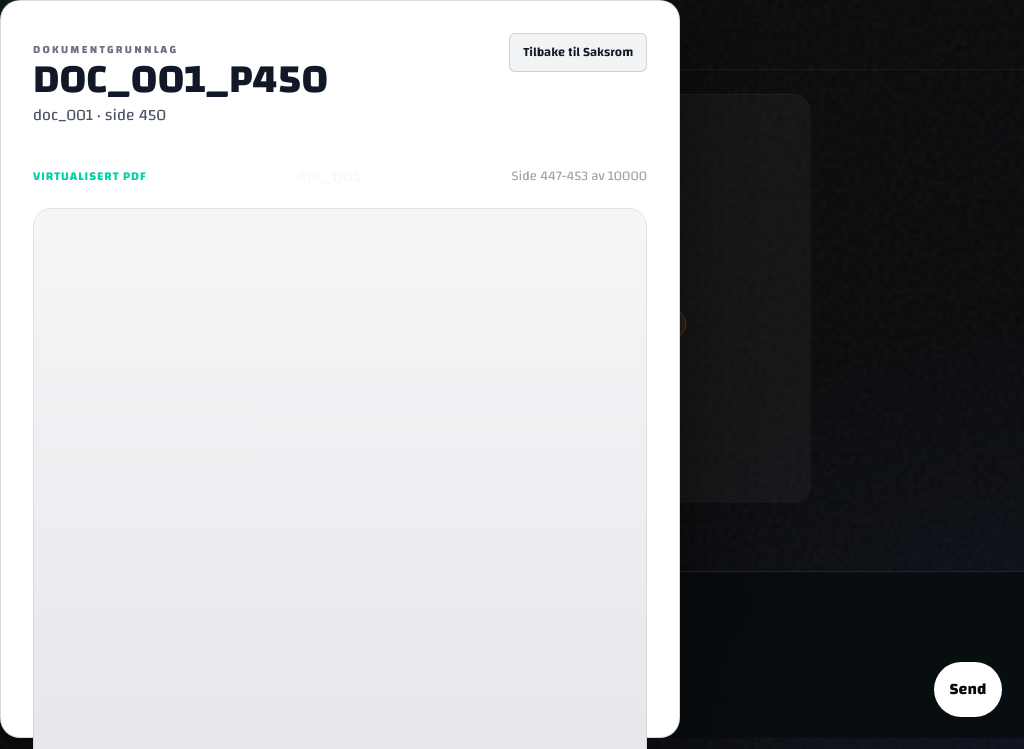
Test: SaksromView › opens the source overlay when citation is clicked, and closes it when back is clicked
Expected: the heading "doc_001_p450" is shown, [33, 63, 328, 100]
Click the button "Tilbake til Saksrom".
click(578, 52)  # box [509, 33, 647, 72]
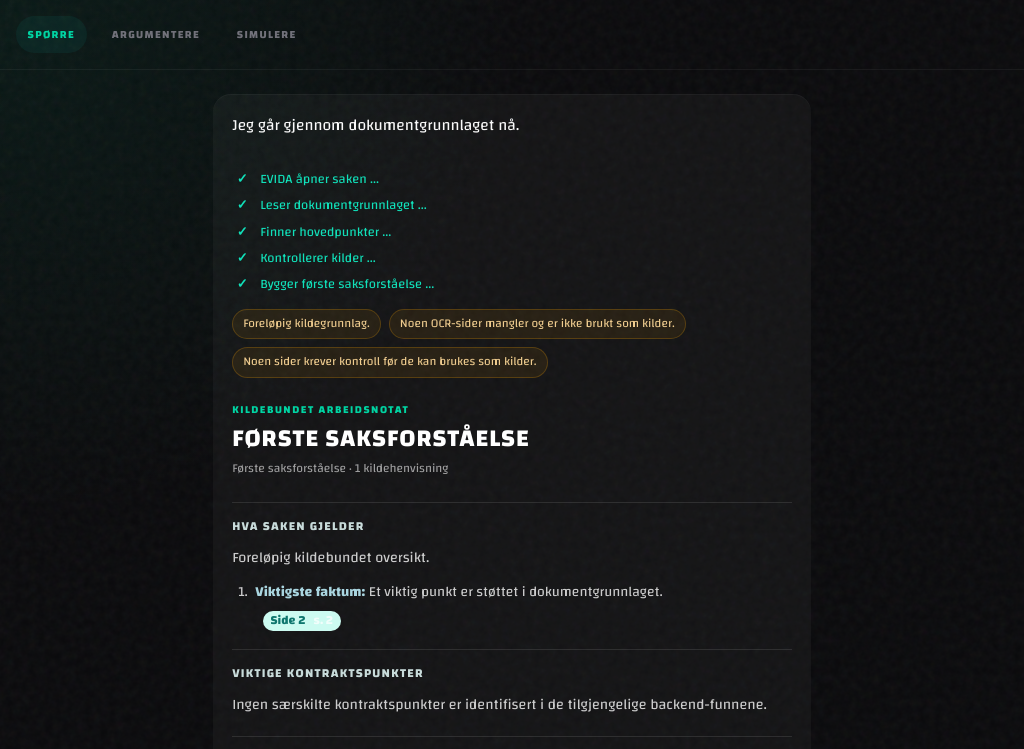
Expected: the button "Tilbake til Saksrom" is gone
